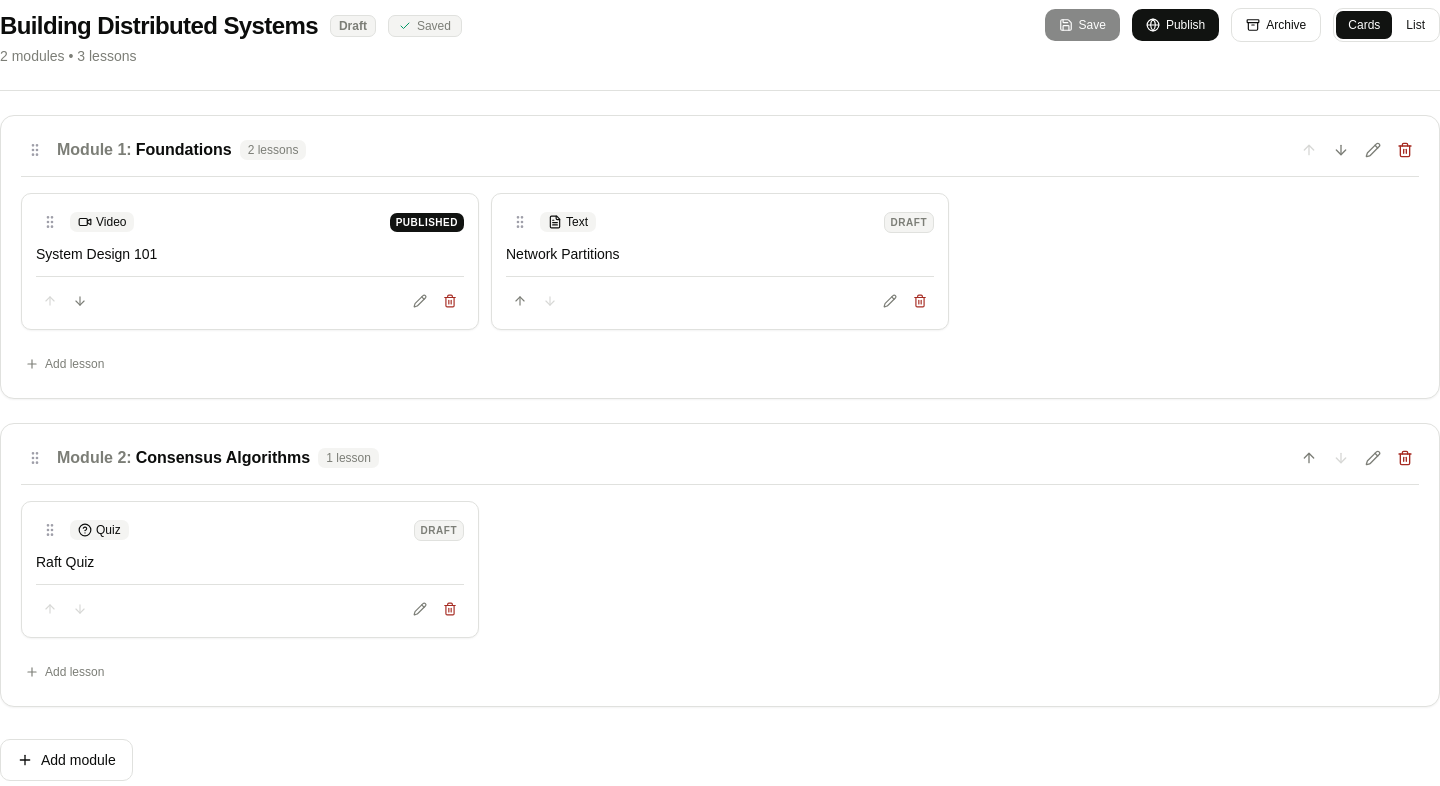
Test case: CourseOutlineBuilder › adds a new module
Step 1. Click the button "Add module" → click(66, 760), box x1=0 y1=739 x2=133 y2=781
(page scrolled)
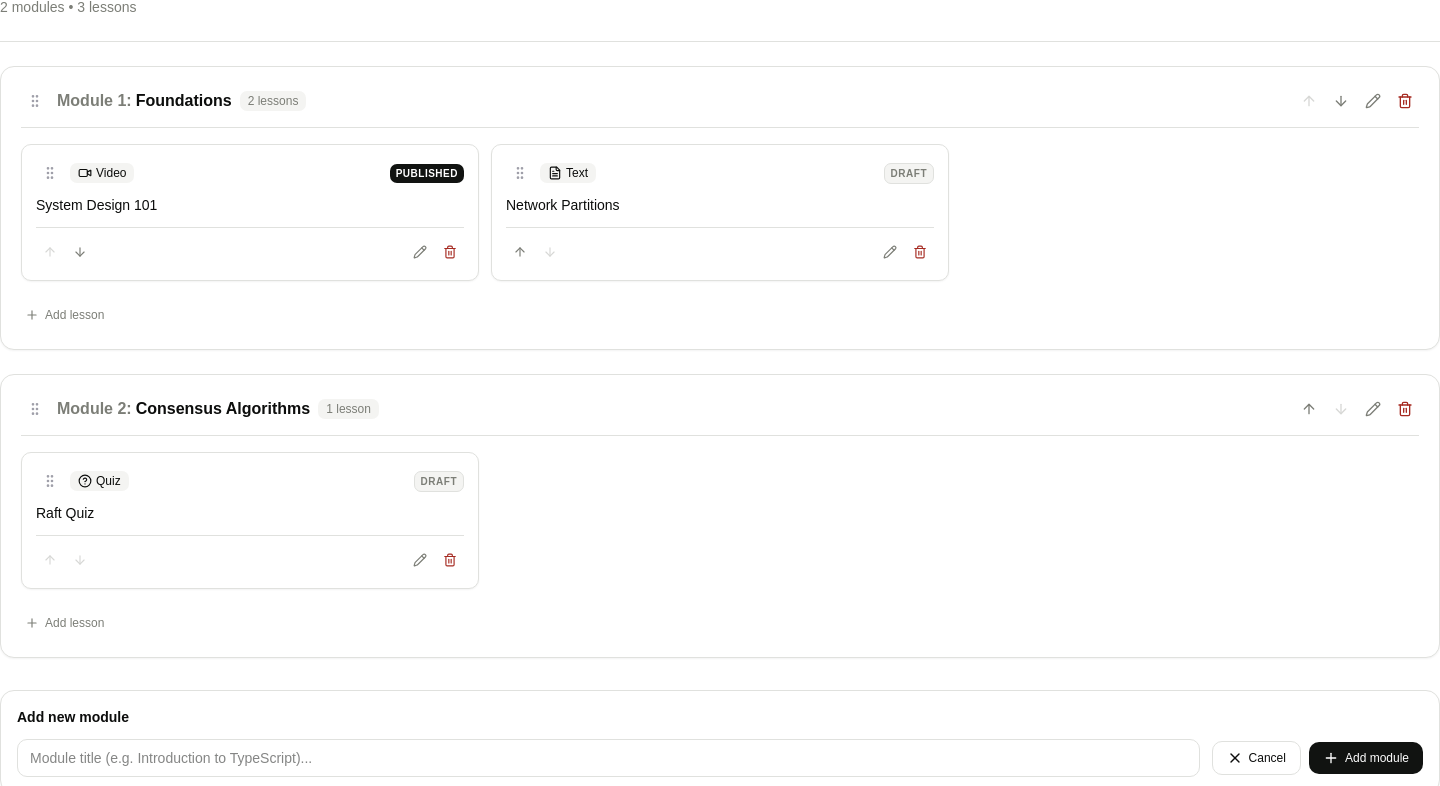
Step 2. Type "Storage Engines" into the field named "New module title" → (608, 758), box x1=17 y1=739 x2=1200 y2=777
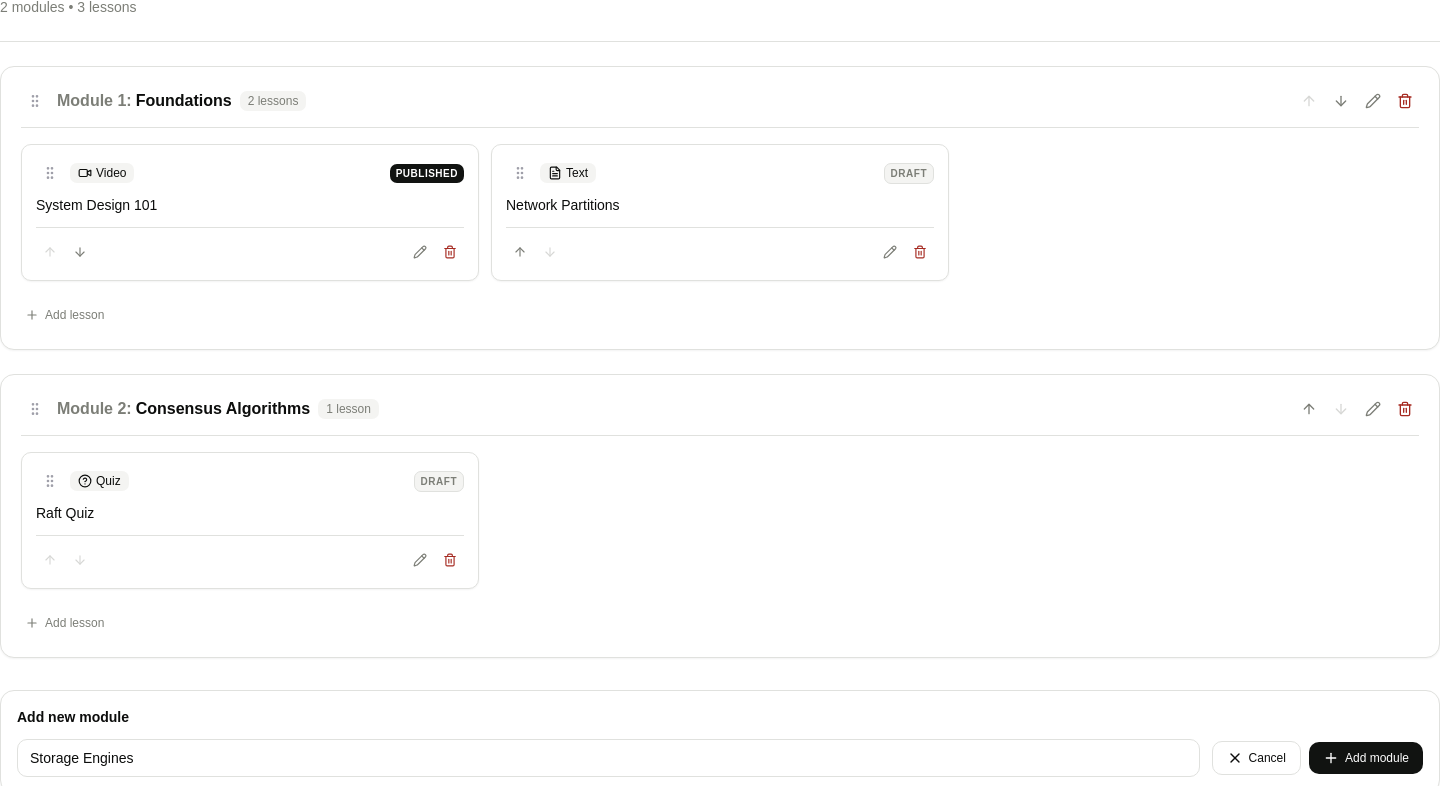
Step 3. Click the button "Add module" → click(1366, 758), box x1=1309 y1=742 x2=1423 y2=774
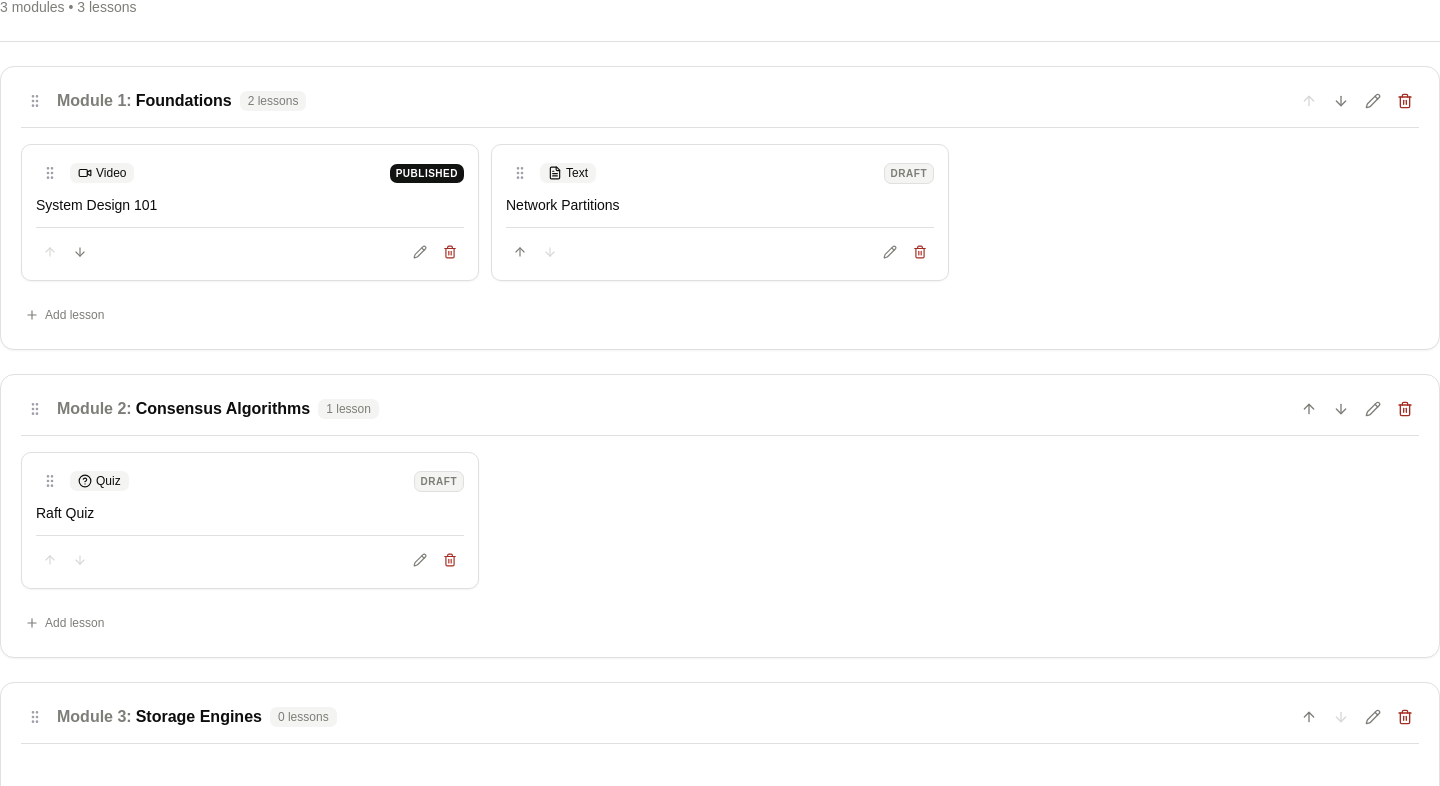
Check: the heading "Module 3:Storage Engines" is shown, box x1=57 y1=705 x2=262 y2=729
